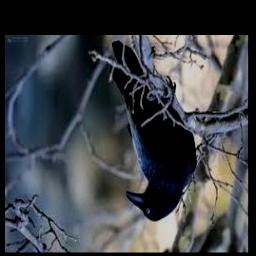Crow: (109, 40, 197, 222)
